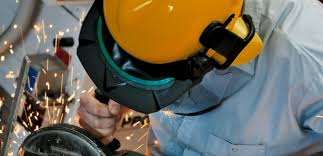Person_wearing_helmet: (78, 0, 258, 94)
